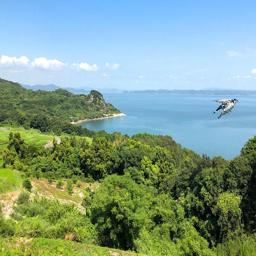Swallow: (211, 98, 238, 119)
